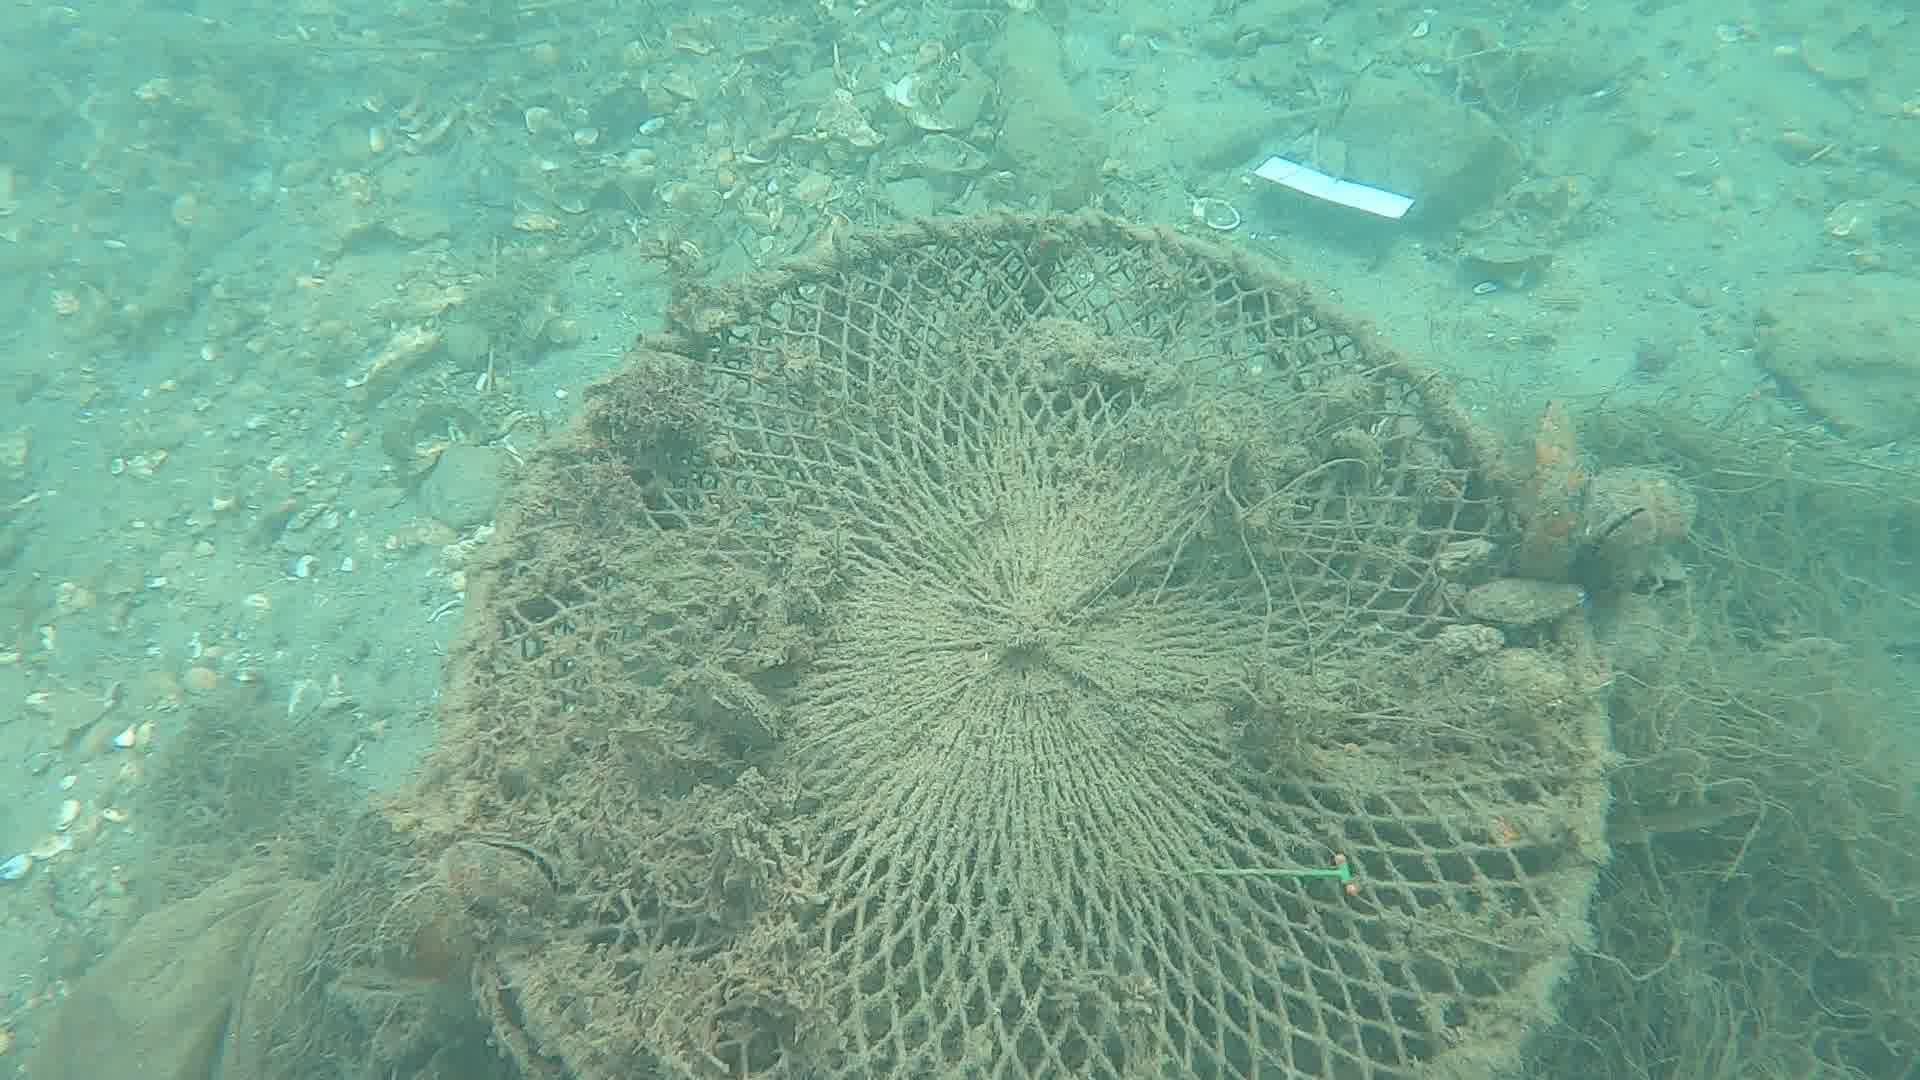circular fish trap: (430, 202, 1626, 1080)
